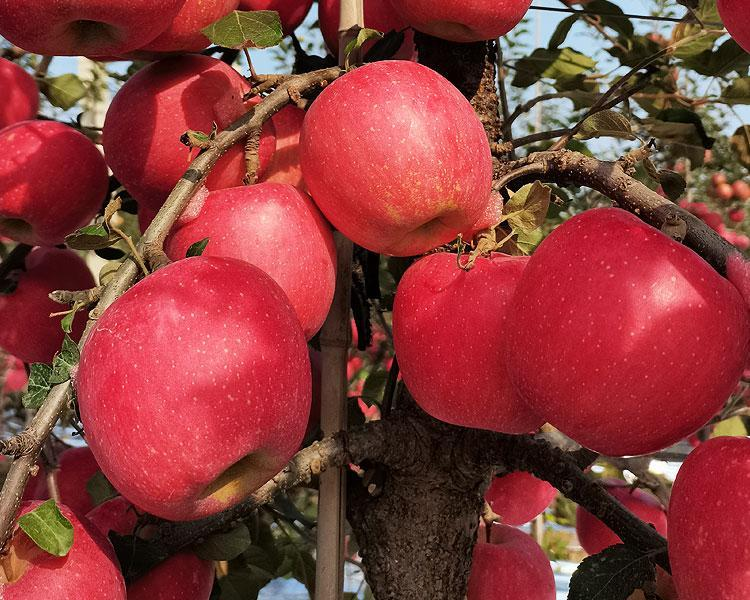apple: (69, 256, 315, 518), (507, 204, 747, 454), (296, 57, 495, 254), (390, 253, 547, 435), (167, 177, 337, 339), (105, 55, 278, 203), (1, 117, 107, 248), (1, 496, 126, 600), (1, 248, 96, 363), (1, 2, 187, 56), (468, 517, 559, 600)
